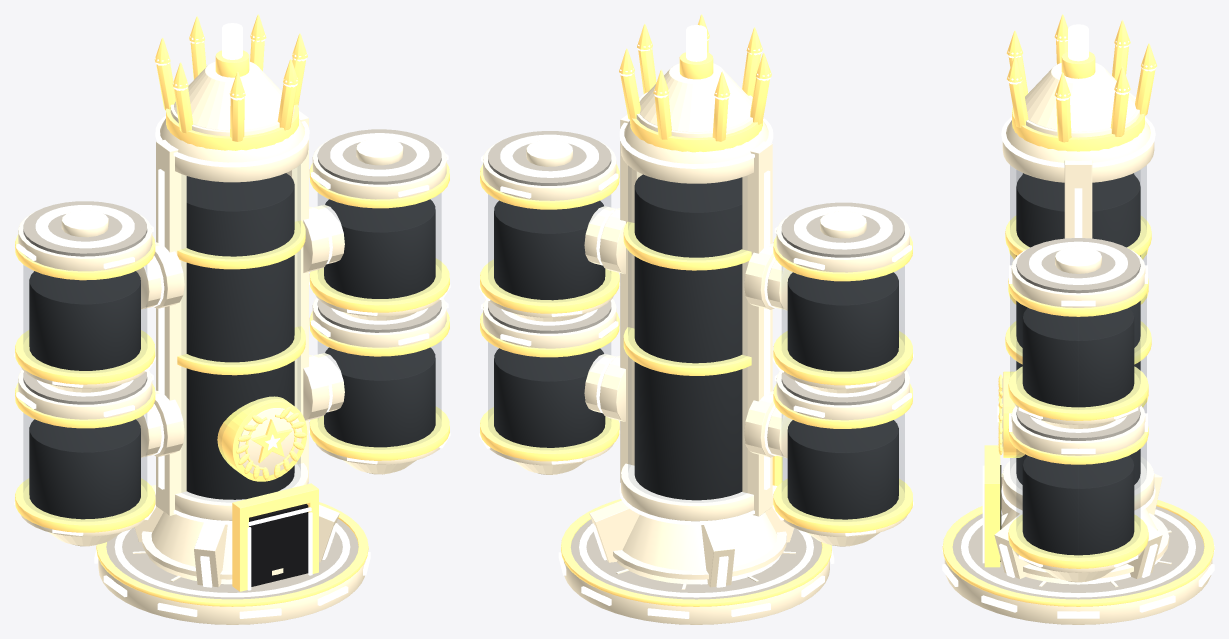
Rendered from Vat_Graduate_T4.glb.
The picture shows the model from 3 angles, left to right: view 1: azimuth 30°, elevation 25°; view 2: azimuth 150°, elevation 25°; view 3: azimuth 270°, elevation 25°; orthographic projection.
Visible parts, largest first — view 1: Vat_Graduate_T4; view 2: Vat_Graduate_T4; view 3: Vat_Graduate_T4.
Part boxes in pixels (left/top/right/bottom): Vat_Graduate_T4: left=14, top=14, right=450, bottom=624; Vat_Graduate_T4: left=479, top=14, right=913, bottom=624; Vat_Graduate_T4: left=942, top=14, right=1214, bottom=624.
Size of the model in its own units: 7.35 by 9.22 by 4.17.
